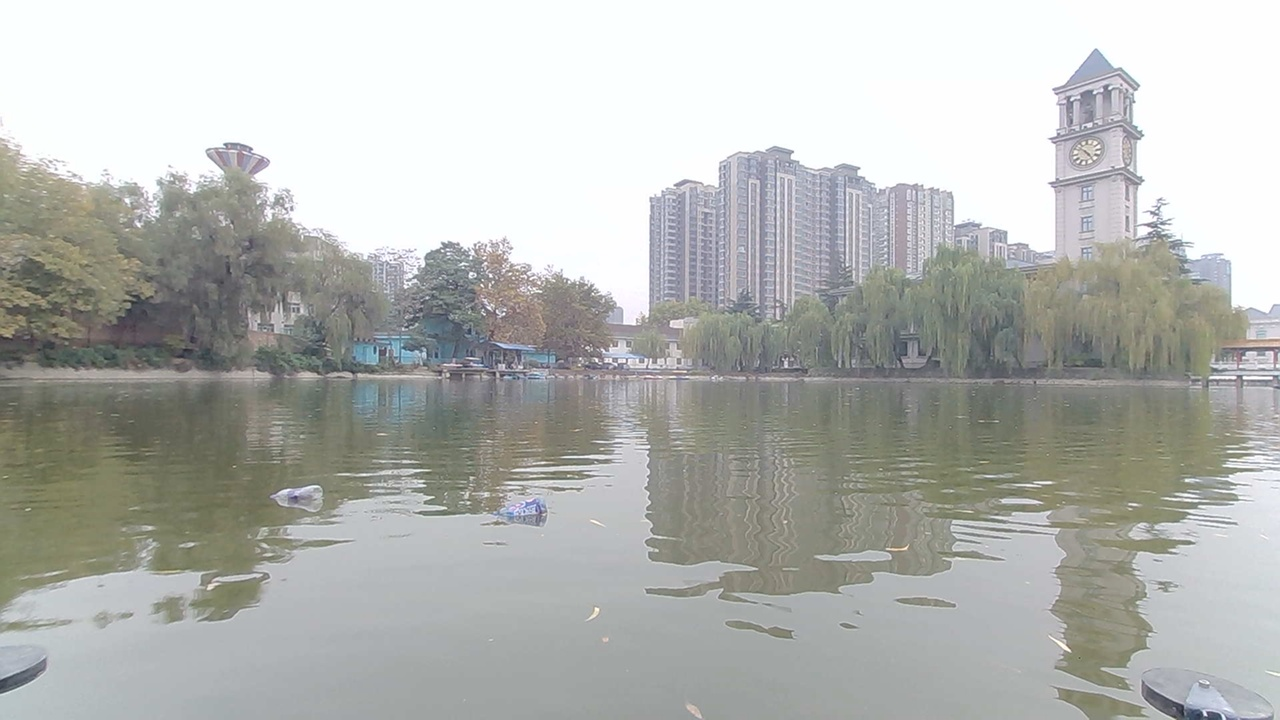bottle: (281, 483, 320, 509), (510, 506, 543, 523)
